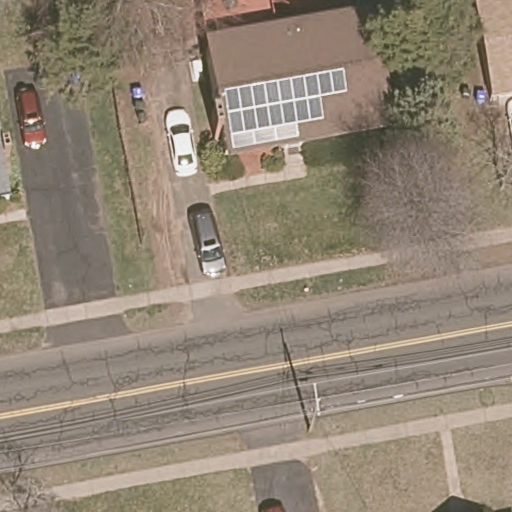DT: (308, 382, 321, 434)
